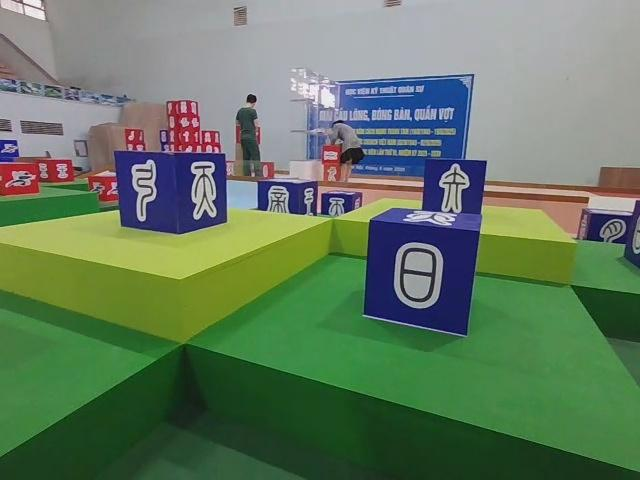R2 Fake Blue: (363, 208, 483, 339), (116, 149, 226, 236), (422, 158, 488, 219), (258, 178, 318, 217), (578, 208, 635, 244), (320, 191, 361, 218)
